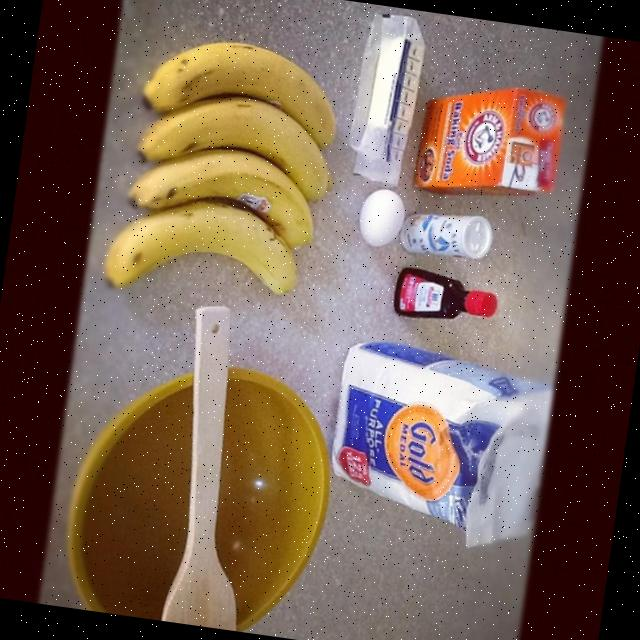banana: (141, 41, 334, 149), (137, 97, 329, 203), (129, 146, 311, 250), (98, 202, 296, 297)
